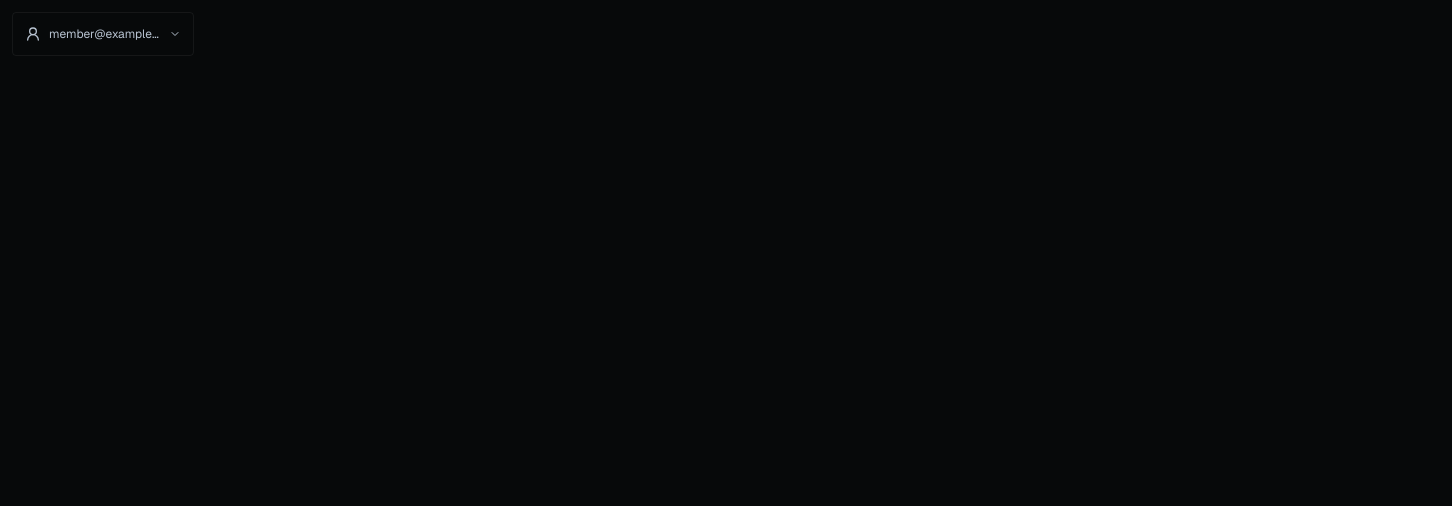
it: desktop navigation disclosures › supports account keyboard access and keeps a failed sign-out recoverable
Press ArrowUp in the button with aria-label "Account menu", box [12,12,194,56]
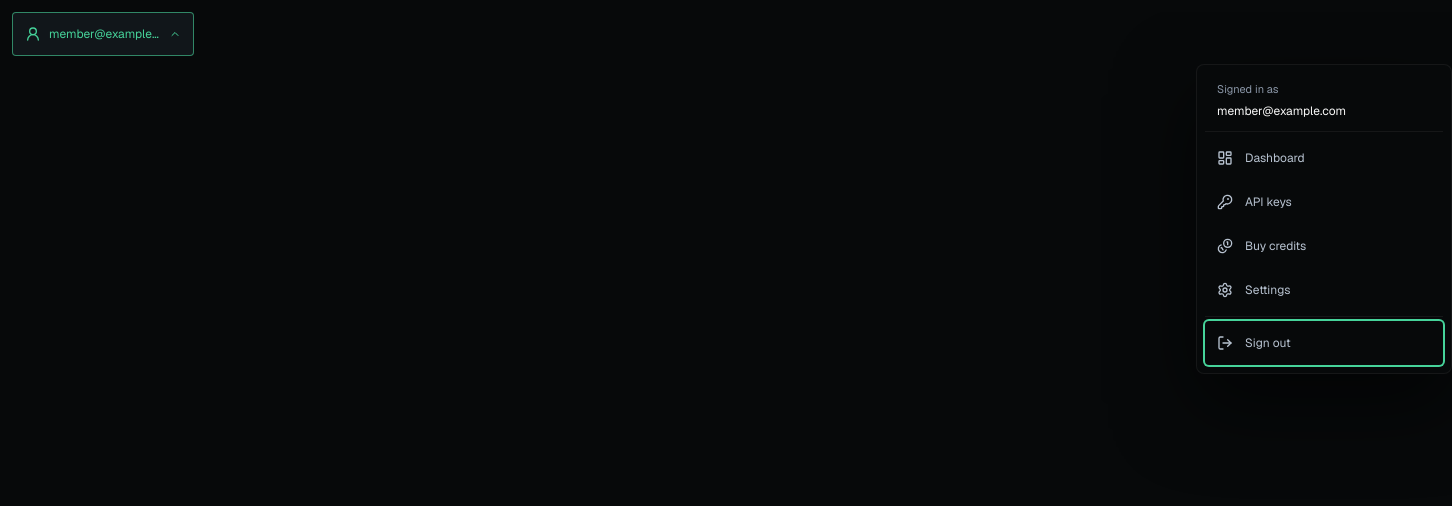
Click the button "Sign out". click: (1324, 343)
box: [1205,321,1443,365]
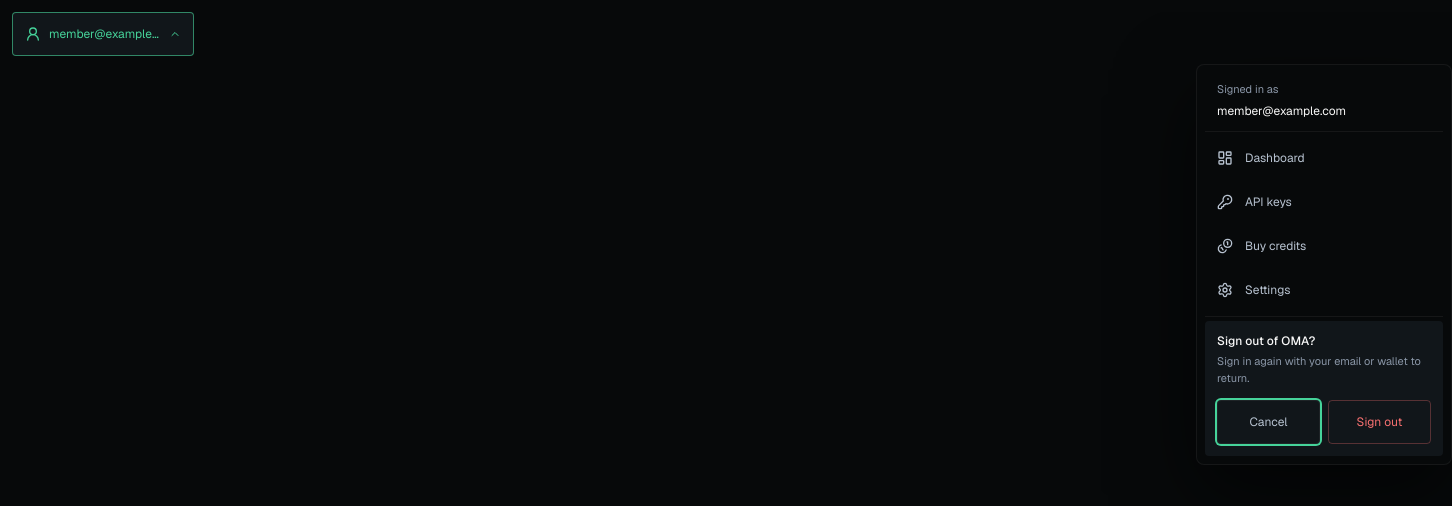
Click the button "Sign out". click: (1380, 422)
box: [1328,400,1431,444]
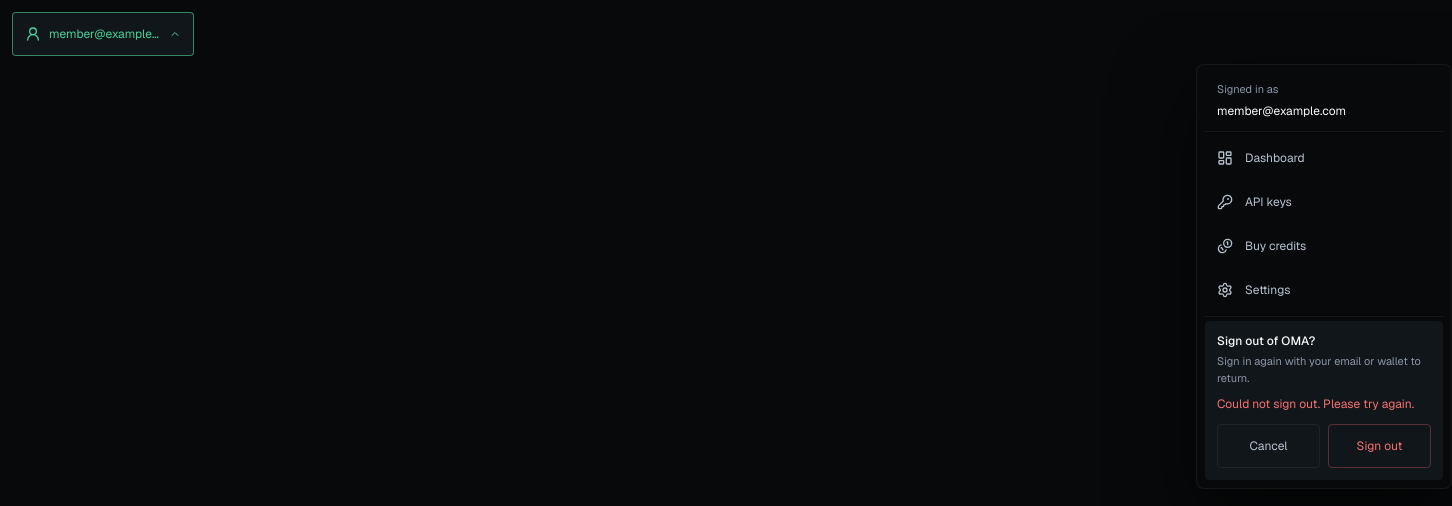
Check: the button with aria-label "Account menu" is expanded, box [12,12,194,56]
Check: the message shows "Could not sign out", box [1217,396,1414,412]
Press Escape in the button "Cancel", box [1217,424,1320,468]
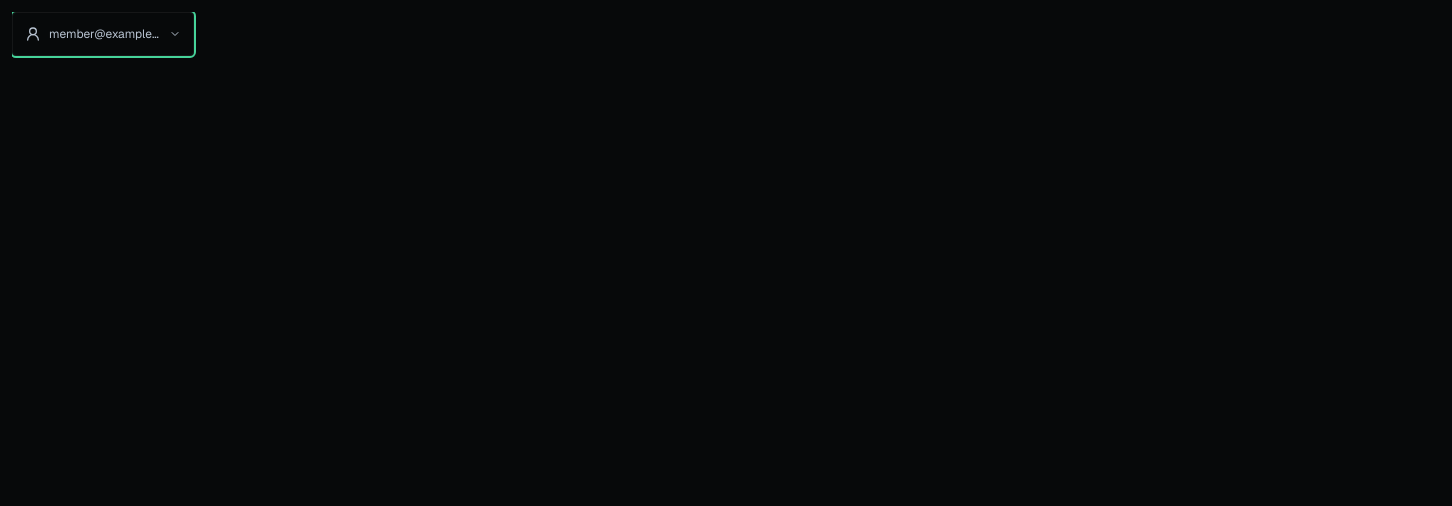
Check: the button with aria-label "Account menu" is collapsed, box [12,12,194,56]
